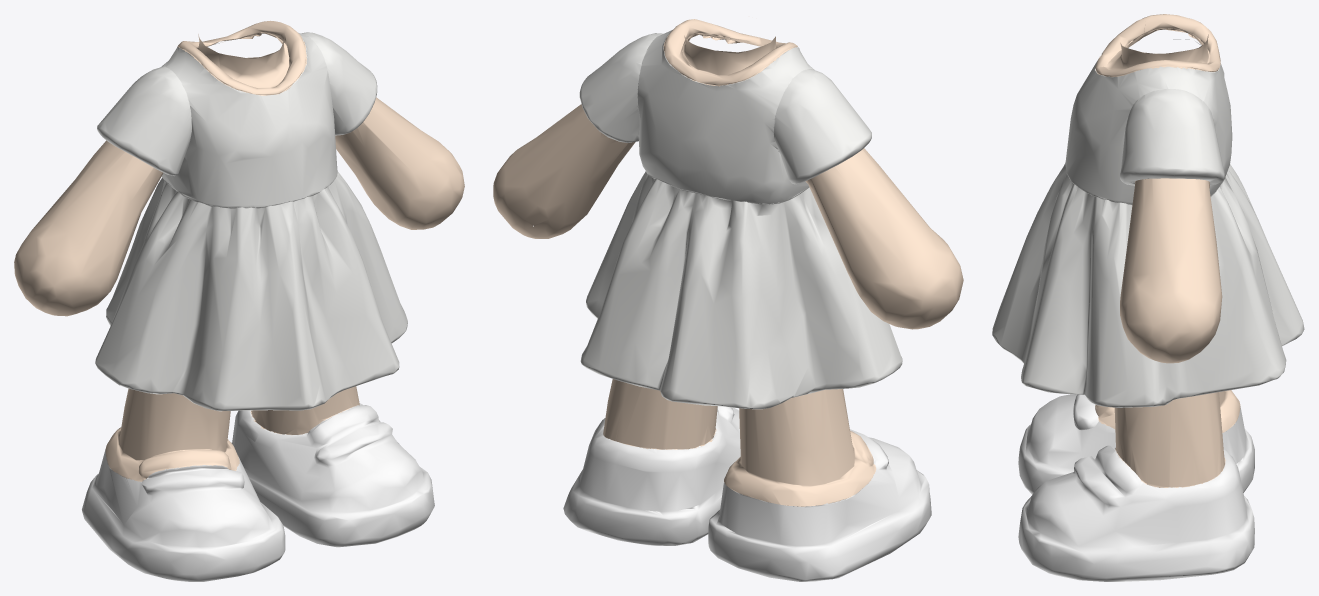
The model's file is outfit_sundress.glb.
The picture shows the model from 3 angles, left to right: view 1: azimuth 30°, elevation 25°; view 2: azimuth 150°, elevation 25°; view 3: azimuth 270°, elevation 25°; orthographic projection. The views are drawn at different scales.
Visible parts, largest first — view 1: top, shoe_l, top_2, shoe_r, hand_r, hand_l, leg_r, sleeve_r, neck, sleeve_l, leg_l; view 2: top, top_2, shoe_r, hand_r, shoe_l, leg_r, hand_l, sleeve_r, leg_l, neck, sleeve_l; view 3: top, shoe_l, hand_l, top_2, leg_l, sleeve_l, shoe_r, neck, leg_r.
Part boxes in pixels (x1,y1,x2,y2): top: [95, 171, 407, 411]; shoe_l: [231, 403, 434, 547]; top_2: [161, 32, 337, 207]; shoe_r: [82, 449, 285, 581]; hand_r: [14, 140, 163, 316]; hand_l: [335, 97, 464, 229]; leg_r: [105, 388, 239, 481]; sleeve_r: [97, 66, 191, 175]; neck: [177, 20, 306, 95]; sleeve_l: [301, 32, 377, 135]; leg_l: [250, 386, 359, 435]; top: [580, 171, 902, 409]; top_2: [637, 30, 814, 203]; shoe_r: [708, 429, 931, 581]; hand_r: [805, 148, 963, 329]; shoe_l: [563, 406, 740, 545]; leg_r: [724, 389, 876, 506]; hand_l: [493, 104, 635, 238]; sleeve_r: [773, 69, 871, 184]; leg_l: [603, 379, 717, 449]; neck: [663, 19, 797, 86]; sleeve_l: [579, 33, 663, 142]; top: [992, 162, 1304, 407]; shoe_l: [1018, 445, 1254, 581]; hand_l: [1120, 178, 1222, 363]; top_2: [1065, 52, 1232, 204]; leg_l: [1114, 392, 1225, 487]; sleeve_l: [1120, 89, 1224, 185]; shoe_r: [1018, 394, 1254, 494]; neck: [1095, 14, 1220, 77]; leg_r: [1095, 390, 1240, 432].
Size of the model in its own units: 0.5517 by 0.5773 by 0.3396.
